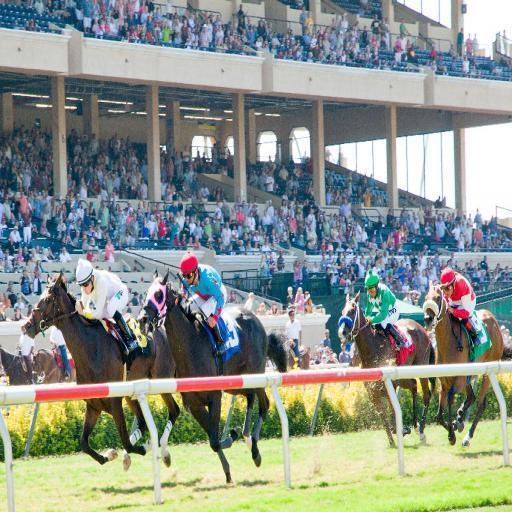horse: (20, 267, 188, 471), (136, 269, 292, 485), (337, 286, 437, 448), (423, 278, 512, 446), (31, 346, 76, 384), (0, 344, 36, 386), (282, 332, 312, 372)
